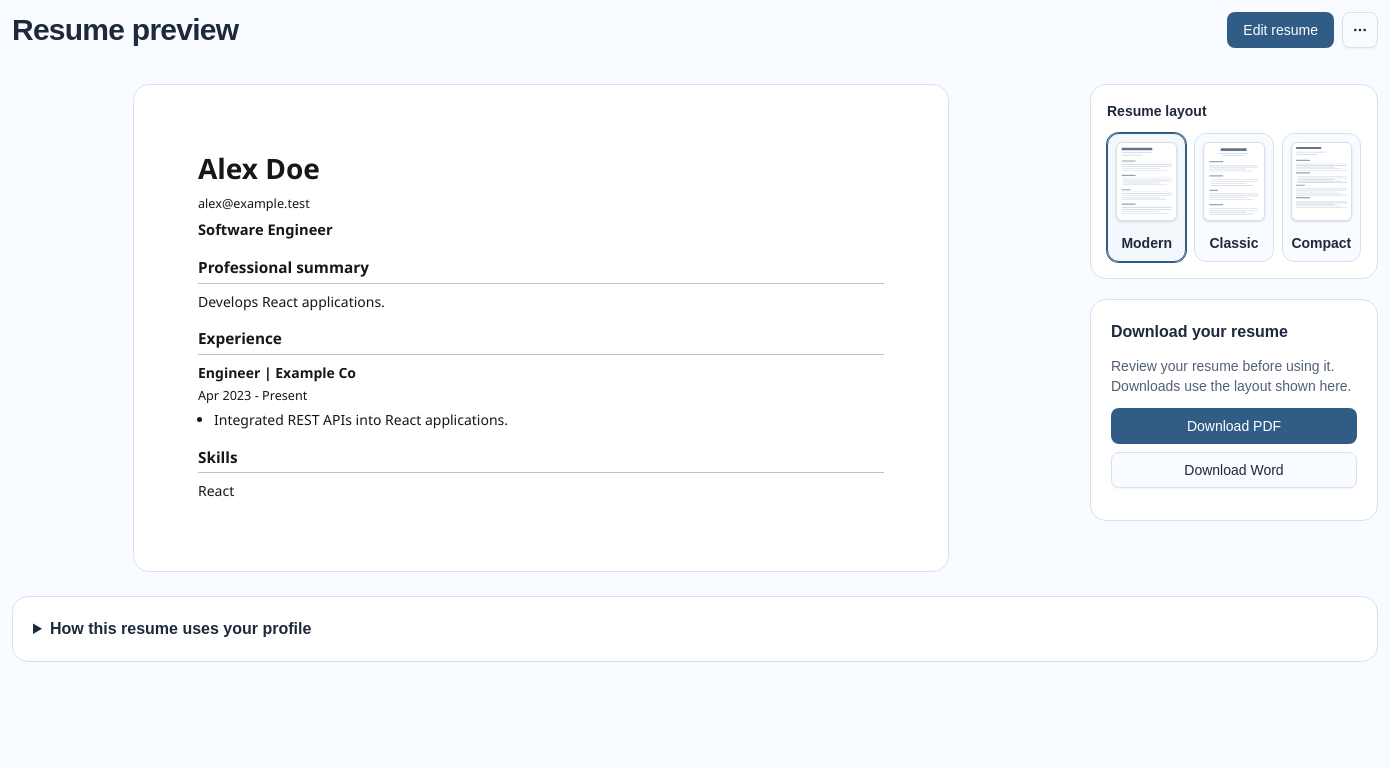
Test: lets saved owner edits download even when Gemini is unavailable
Click the button "Edit resume". click: coordinates (1281, 30)
box: 1227,12 -> 1334,48
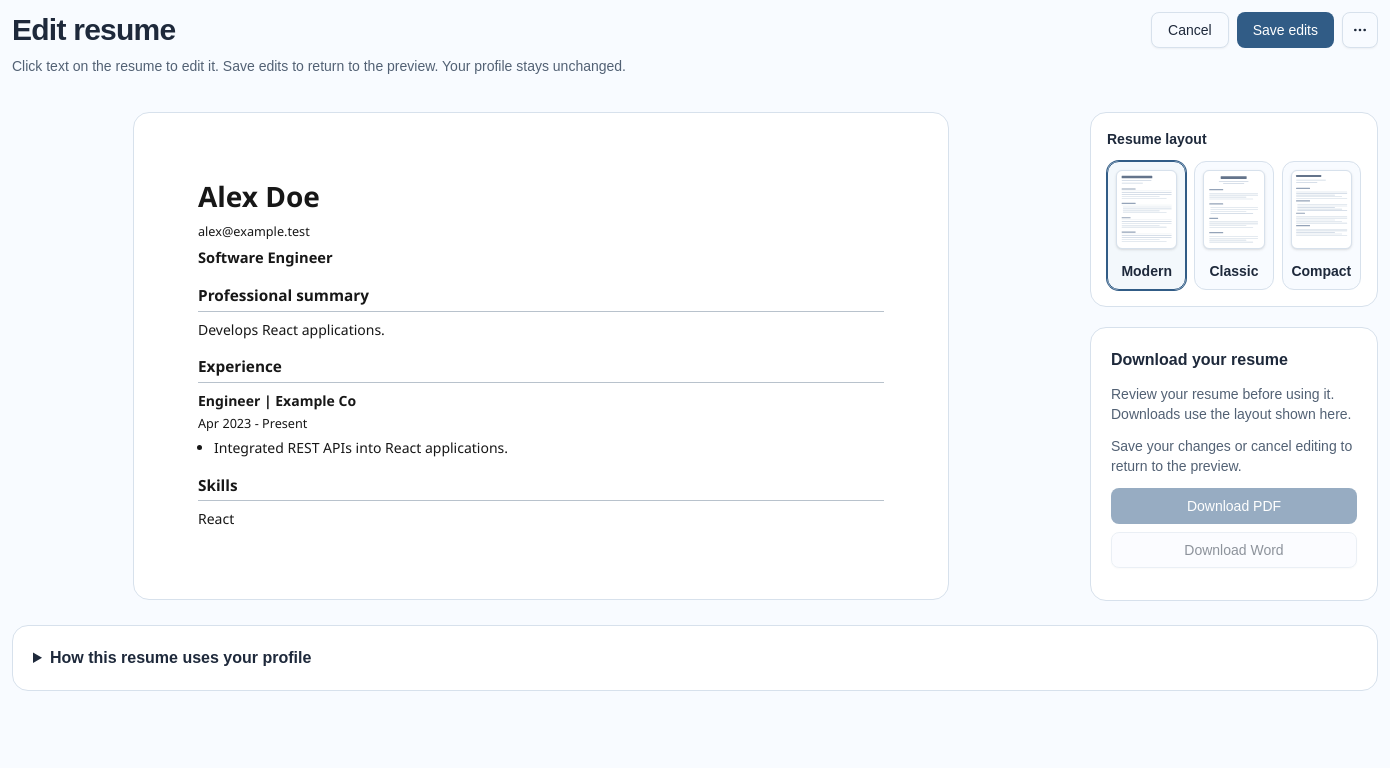
Clear the field named "Professional summary". click: coordinates (291, 329)
box: 198,320 -> 385,338
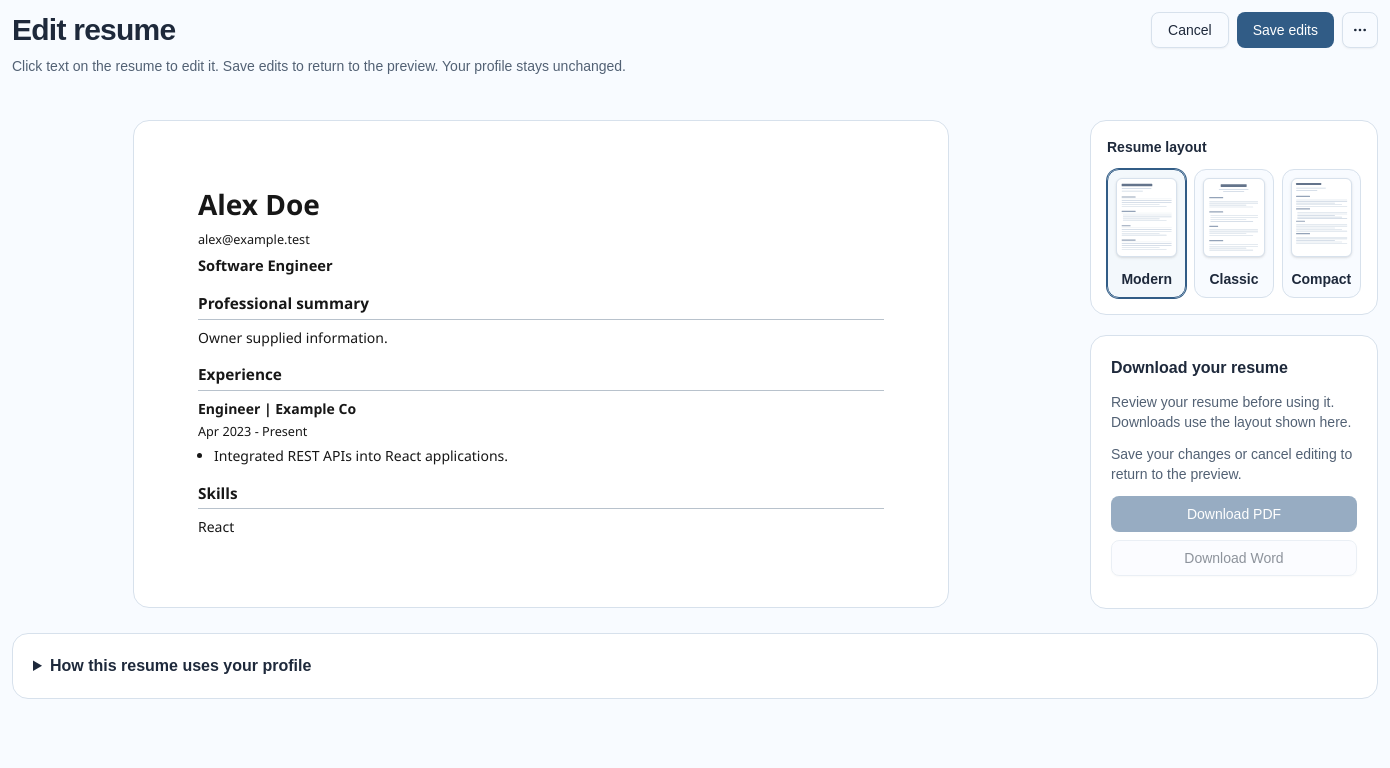
Click the button "Save edits". click: coordinates (1285, 30)
box: 1237,12 -> 1334,48
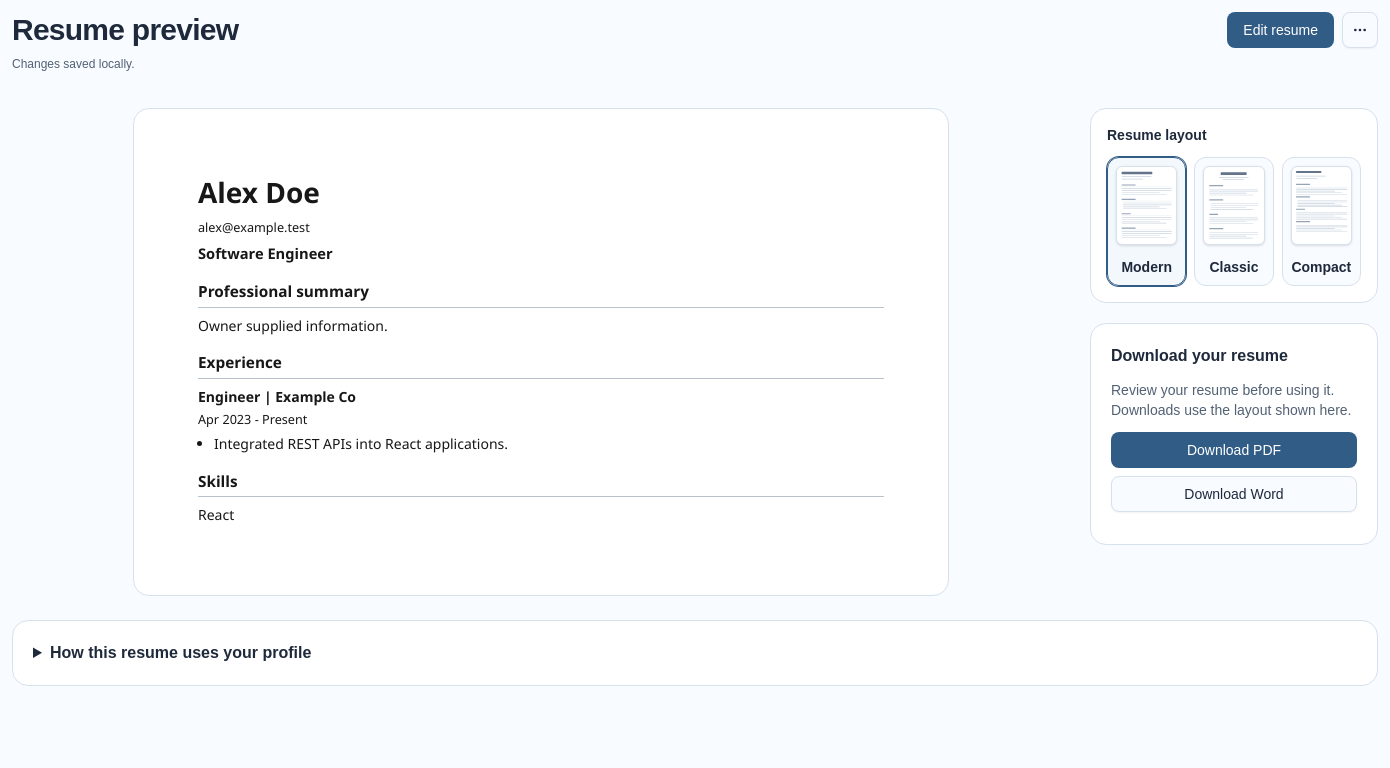
Expected: the element named "Saved resume" is shown, 133,108 -> 949,596
Expected: the button "Download PDF" is enabled, 1111,432 -> 1357,468
Expected: the button "Download Word" is enabled, 1111,476 -> 1357,512
